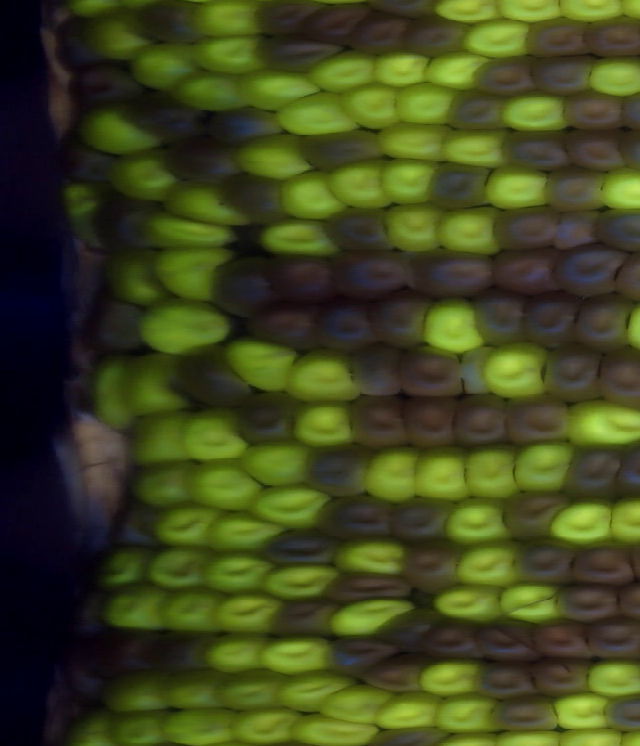fluorescent: (132, 291, 238, 360), (149, 241, 247, 309), (241, 477, 341, 536), (180, 452, 268, 517), (115, 349, 196, 417), (70, 103, 167, 159), (479, 334, 555, 405), (223, 337, 310, 399), (81, 351, 149, 430), (119, 404, 202, 468), (157, 173, 250, 230), (96, 244, 175, 310), (226, 130, 318, 185), (82, 1, 157, 68), (280, 347, 367, 404), (278, 660, 365, 717), (268, 88, 365, 139), (454, 439, 531, 503), (135, 539, 217, 599), (123, 38, 207, 96), (359, 441, 429, 509), (404, 438, 475, 504), (104, 148, 182, 208), (139, 208, 250, 250), (236, 437, 320, 492), (419, 293, 490, 358), (197, 508, 295, 555), (55, 177, 116, 252), (326, 533, 413, 585), (554, 398, 640, 450), (232, 68, 331, 113), (324, 597, 423, 642), (253, 632, 347, 679), (150, 583, 230, 638), (99, 576, 176, 633), (255, 560, 348, 607), (210, 665, 294, 717), (285, 393, 364, 448), (445, 492, 521, 549), (318, 158, 398, 212), (512, 434, 579, 498), (314, 679, 405, 726), (178, 406, 252, 463), (339, 77, 410, 135), (433, 203, 504, 261), (375, 119, 457, 169), (194, 29, 274, 80), (197, 546, 278, 596), (184, 1, 275, 45), (155, 665, 236, 714), (126, 455, 199, 509), (545, 495, 621, 546), (276, 168, 348, 221), (497, 574, 570, 626), (449, 539, 522, 591), (427, 691, 506, 739), (498, 91, 578, 138), (151, 504, 231, 551), (371, 686, 449, 734), (97, 667, 173, 716), (303, 48, 382, 95), (209, 589, 288, 636), (257, 218, 345, 260), (393, 79, 465, 130), (379, 199, 444, 255), (229, 700, 308, 746), (282, 711, 385, 746), (433, 578, 505, 628), (482, 162, 555, 211), (459, 12, 535, 59), (175, 68, 251, 115), (200, 631, 274, 679), (418, 49, 495, 94), (436, 123, 513, 168), (373, 153, 439, 205), (543, 688, 620, 732), (160, 703, 237, 746), (93, 544, 160, 592), (419, 656, 493, 699), (368, 47, 436, 89), (582, 53, 640, 101), (102, 708, 172, 746), (62, 703, 119, 746), (586, 658, 640, 703), (595, 164, 640, 213), (605, 489, 640, 546), (430, 1, 503, 28), (551, 1, 627, 26), (493, 1, 567, 26)
nonfluorescent: (169, 340, 256, 409), (361, 280, 437, 354), (207, 252, 280, 324), (406, 246, 500, 301), (550, 237, 627, 304), (565, 288, 638, 358), (327, 248, 415, 306), (559, 434, 633, 502), (123, 86, 209, 144), (310, 491, 402, 545), (300, 439, 378, 502), (156, 132, 245, 187), (316, 203, 401, 259), (87, 190, 166, 249), (241, 299, 325, 354), (391, 339, 468, 399), (233, 385, 303, 451), (499, 387, 574, 448), (201, 100, 298, 147), (83, 296, 154, 360), (295, 126, 387, 175), (343, 392, 415, 454), (468, 282, 534, 349), (267, 249, 340, 309), (544, 339, 609, 406), (216, 168, 290, 226), (446, 390, 513, 454), (395, 390, 462, 454), (256, 30, 347, 76), (492, 244, 565, 301), (499, 488, 573, 544), (397, 535, 467, 594), (397, 9, 477, 60), (318, 569, 420, 609), (64, 61, 148, 109), (518, 288, 581, 352), (507, 533, 579, 589), (467, 614, 544, 666), (423, 160, 498, 213), (345, 339, 410, 399), (566, 539, 640, 591), (496, 125, 576, 173), (55, 121, 115, 185), (267, 592, 347, 640), (385, 493, 456, 547), (539, 163, 609, 217), (493, 200, 563, 254), (311, 299, 374, 359), (485, 692, 569, 737), (591, 339, 640, 416), (369, 603, 440, 656), (357, 651, 434, 699), (258, 528, 344, 570), (556, 86, 631, 134), (417, 615, 486, 667), (526, 617, 602, 664), (521, 653, 598, 699), (525, 51, 598, 99), (470, 658, 541, 706), (560, 127, 628, 177), (329, 635, 404, 680), (345, 11, 415, 59), (298, 1, 374, 45), (135, 1, 204, 49), (524, 14, 594, 61), (105, 499, 167, 552), (554, 582, 623, 629), (51, 15, 104, 76), (468, 54, 538, 100), (441, 87, 510, 133), (253, 1, 333, 40), (579, 11, 640, 59), (583, 615, 640, 665), (549, 206, 605, 253), (595, 202, 640, 259), (608, 241, 640, 307), (363, 724, 458, 746), (598, 687, 640, 736), (34, 1, 81, 37)
